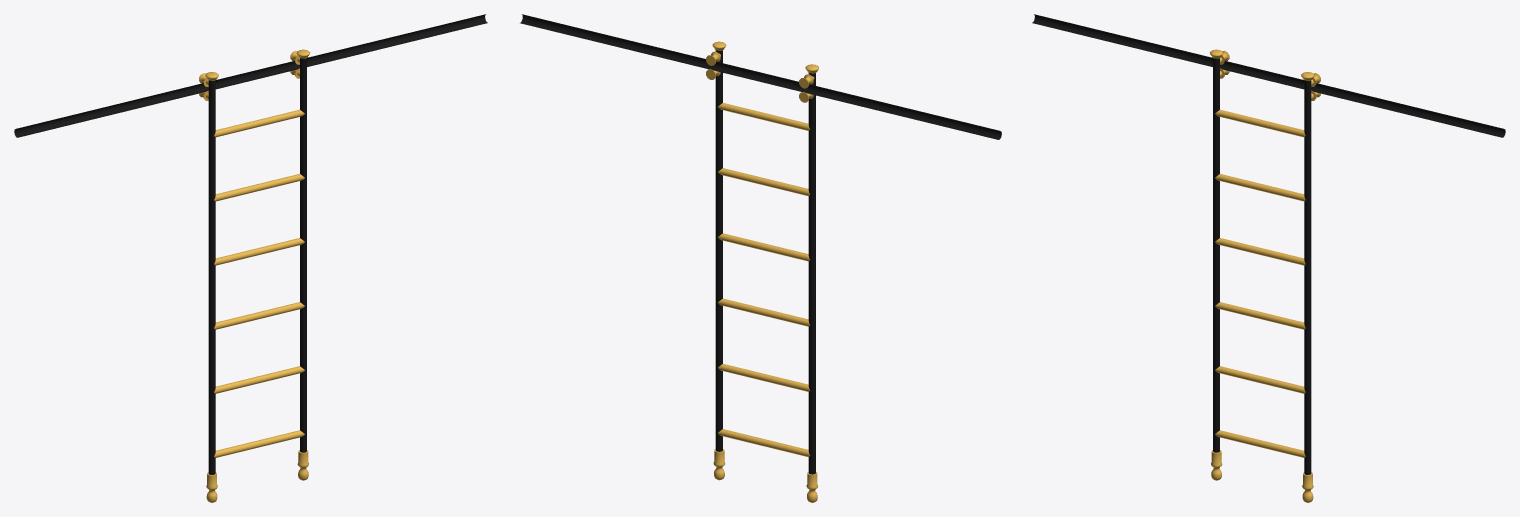
File: ladder.fbx
3 views of the same model, side by side, from view 1: azimuth 30°, elevation 25°; view 2: azimuth 150°, elevation 25°; view 3: azimuth 330°, elevation 25° (orthographic).
Visible parts, largest first — view 1: ladder, railing; view 2: ladder, railing; view 3: ladder, railing.
Boxes of the visible parts, x1=… form: ladder: x1=199, y1=49, x2=310, y2=502; railing: x1=14, y1=14, x2=487, y2=137; ladder: x1=706, y1=41, x2=818, y2=502; railing: x1=520, y1=14, x2=1001, y2=139; ladder: x1=1209, y1=49, x2=1320, y2=502; railing: x1=1032, y1=14, x2=1505, y2=137.
Bounding box in the file's own units: 1076 × 936 × 47.14.
